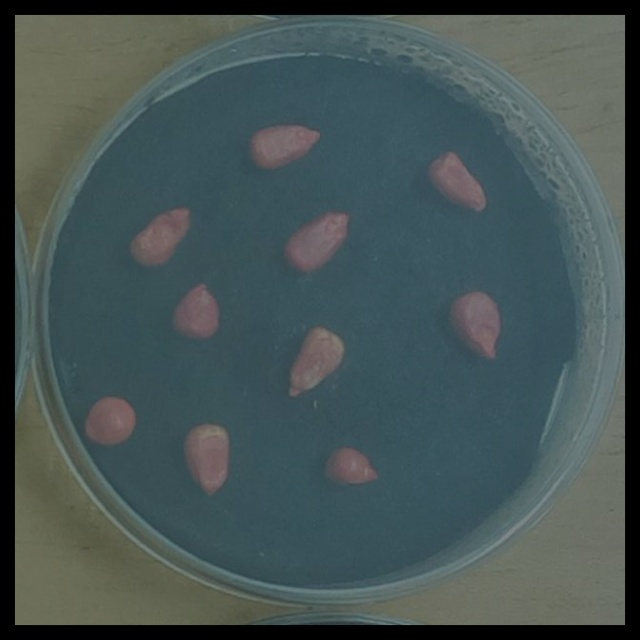Zea mays: (279, 321, 349, 407), (120, 201, 195, 276), (278, 206, 355, 279), (176, 418, 236, 504), (421, 145, 490, 219), (442, 286, 505, 367), (242, 117, 326, 176), (163, 277, 225, 348), (77, 391, 141, 451), (315, 440, 384, 494)
